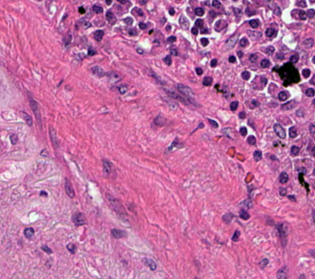nucleus: (176, 84, 196, 104), (29, 93, 40, 124), (107, 195, 124, 213), (278, 224, 287, 245), (226, 33, 238, 48), (64, 179, 74, 197), (72, 212, 85, 225), (274, 124, 285, 138), (142, 258, 156, 269), (49, 128, 57, 147), (281, 100, 295, 110), (91, 66, 104, 76), (111, 229, 125, 238), (277, 266, 287, 278), (103, 160, 112, 173), (108, 72, 120, 81), (154, 115, 164, 125), (223, 128, 233, 138), (239, 209, 249, 219), (302, 38, 313, 47), (279, 172, 288, 183), (265, 28, 275, 37), (94, 30, 103, 40), (278, 91, 288, 100), (290, 146, 299, 155), (223, 213, 232, 222), (264, 46, 274, 54), (253, 150, 261, 160), (67, 243, 75, 253), (41, 245, 51, 253), (232, 230, 239, 241), (248, 31, 260, 37), (260, 59, 269, 67), (203, 77, 212, 85), (208, 119, 217, 127), (289, 127, 296, 137), (240, 38, 248, 46), (249, 54, 257, 62), (290, 54, 298, 62), (241, 71, 249, 79), (119, 85, 127, 93), (305, 88, 313, 96), (247, 136, 255, 144), (230, 101, 237, 110), (260, 258, 267, 267), (64, 34, 70, 44), (200, 38, 208, 45), (164, 56, 171, 64), (302, 69, 309, 77), (309, 124, 314, 135), (88, 48, 95, 55), (170, 48, 177, 55), (296, 109, 303, 116), (167, 36, 175, 42), (240, 127, 246, 135), (210, 59, 216, 66), (196, 67, 202, 74), (279, 188, 285, 195), (229, 56, 235, 62), (239, 112, 245, 118), (288, 195, 295, 200), (310, 76, 314, 84), (238, 51, 242, 56)
